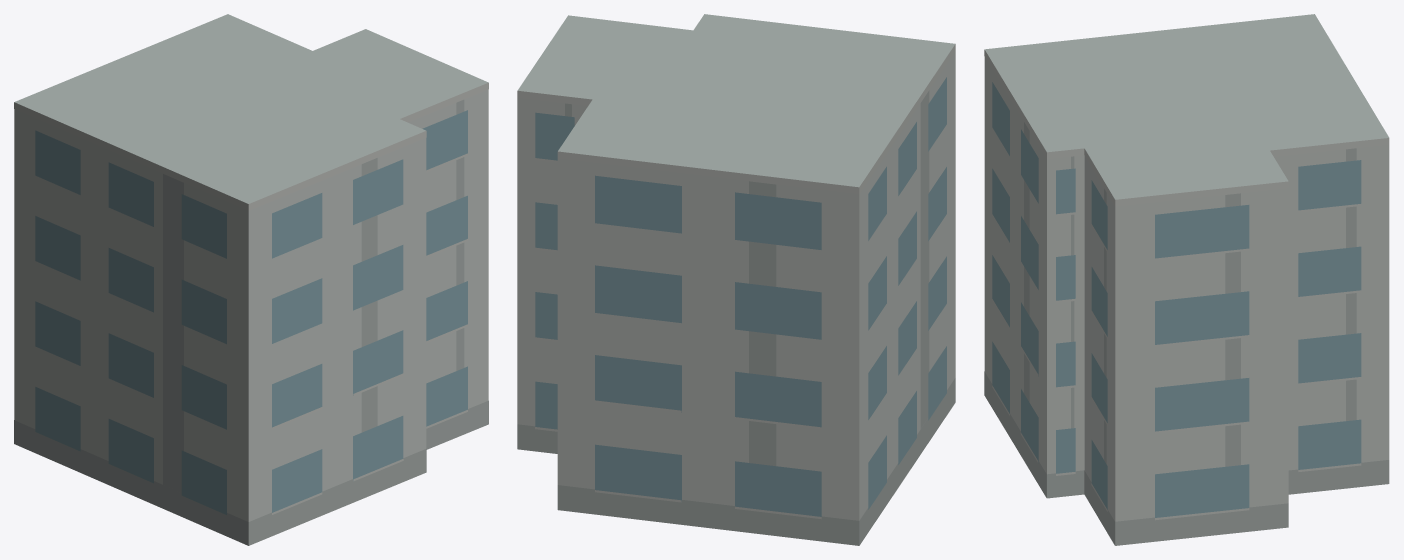
The model's file is residential-d61f77f7-e8fb-4e48-9a57-3ce64d82070c.glb.
3 renders of one model, left to right at view 1: azimuth 30°, elevation 25°; view 2: azimuth 150°, elevation 25°; view 3: azimuth 270°, elevation 25°, orthographic. The views are drawn at different scales.
Parts seen in each view (by area): view 1: residential-d61f77f7-e8fb-4e48-9a57-3ce64d82070c.tmp; view 2: residential-d61f77f7-e8fb-4e48-9a57-3ce64d82070c.tmp; view 3: residential-d61f77f7-e8fb-4e48-9a57-3ce64d82070c.tmp.
Part boxes in pixels (left/top/right/bottom): residential-d61f77f7-e8fb-4e48-9a57-3ce64d82070c.tmp: left=14, top=14, right=488, bottom=545; residential-d61f77f7-e8fb-4e48-9a57-3ce64d82070c.tmp: left=517, top=14, right=955, bottom=545; residential-d61f77f7-e8fb-4e48-9a57-3ce64d82070c.tmp: left=984, top=14, right=1389, bottom=545.
Size of the model in its own units: 14.06 by 12.2 by 12.95.
